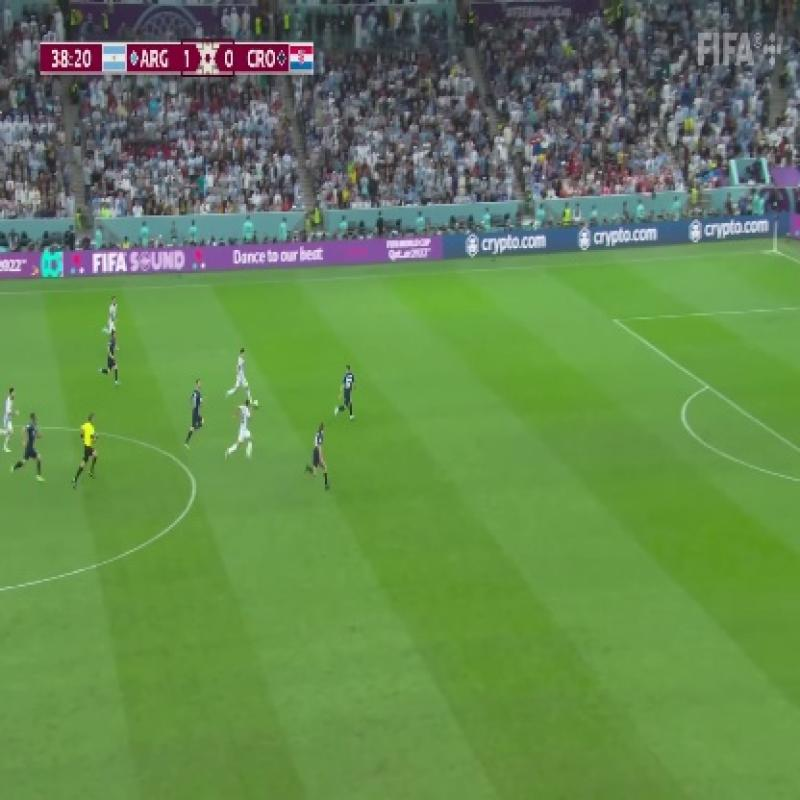1: (764, 241, 782, 258)
10: (696, 371, 717, 398)
9: (602, 306, 623, 331)
c: (177, 472, 213, 498)
